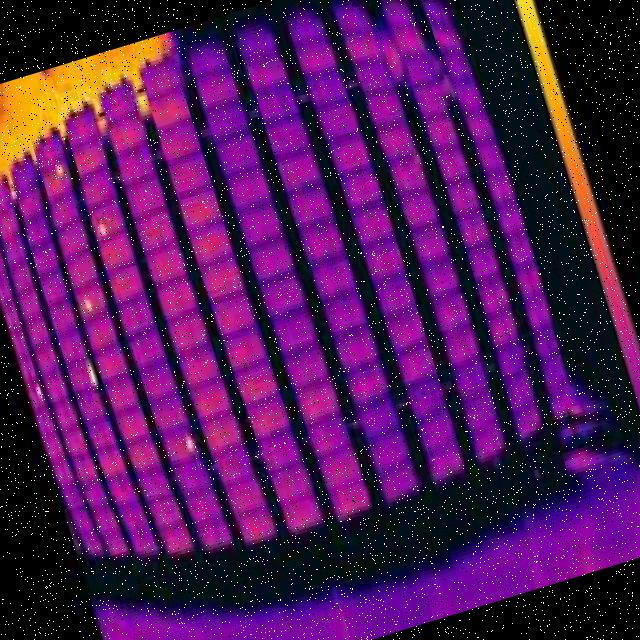Hotspot: (82, 354, 102, 390), (181, 431, 198, 456), (32, 382, 47, 406), (96, 218, 110, 240), (81, 294, 95, 316), (53, 160, 66, 177)
